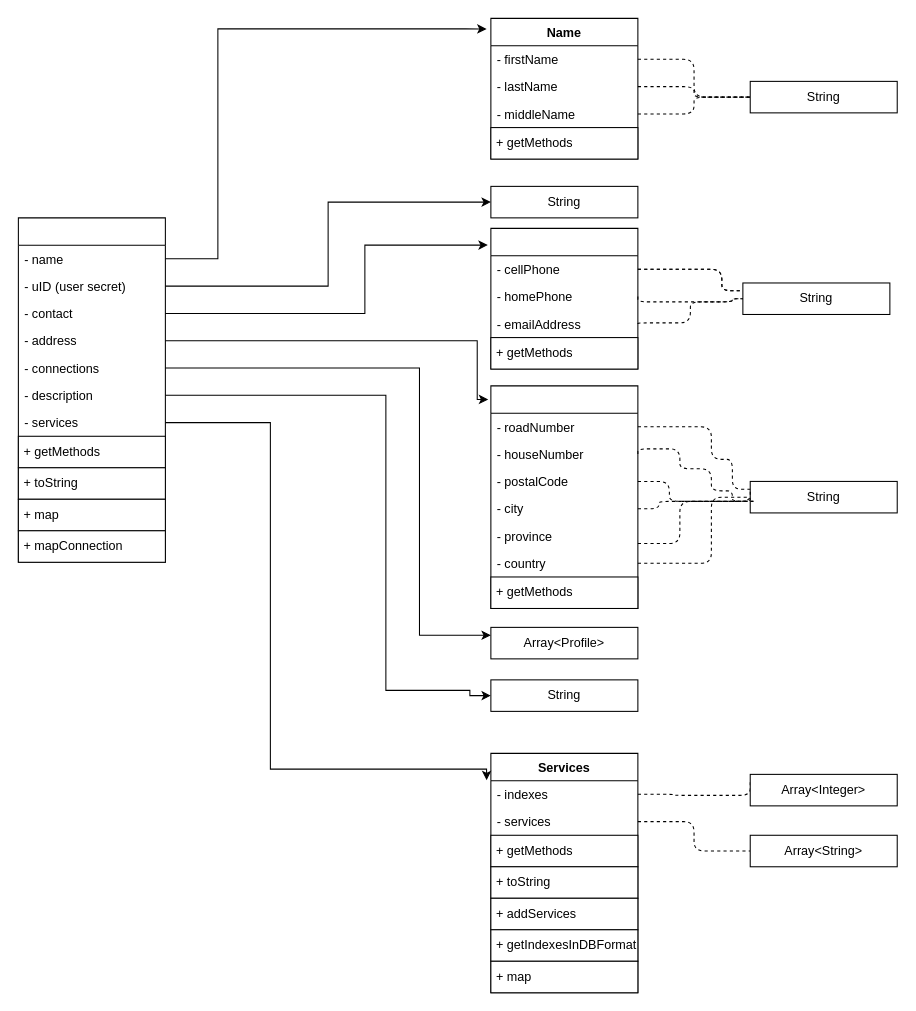
Some shapes in this 916 by 1011 pixel diagram are drawn without their labels. The box of each missing label's shape, as (x1, y1, x2, y2) in pixels:
Address: (490, 385, 638, 608)
Contact: (490, 227, 638, 369)
Profile: (17, 217, 165, 562)
